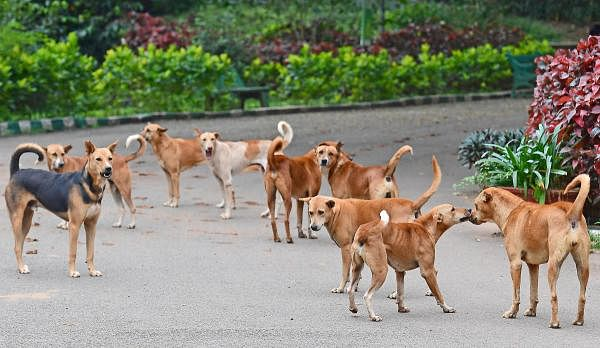Dog: (462, 181, 600, 336), (5, 144, 125, 285), (304, 188, 454, 296), (187, 119, 303, 235)
